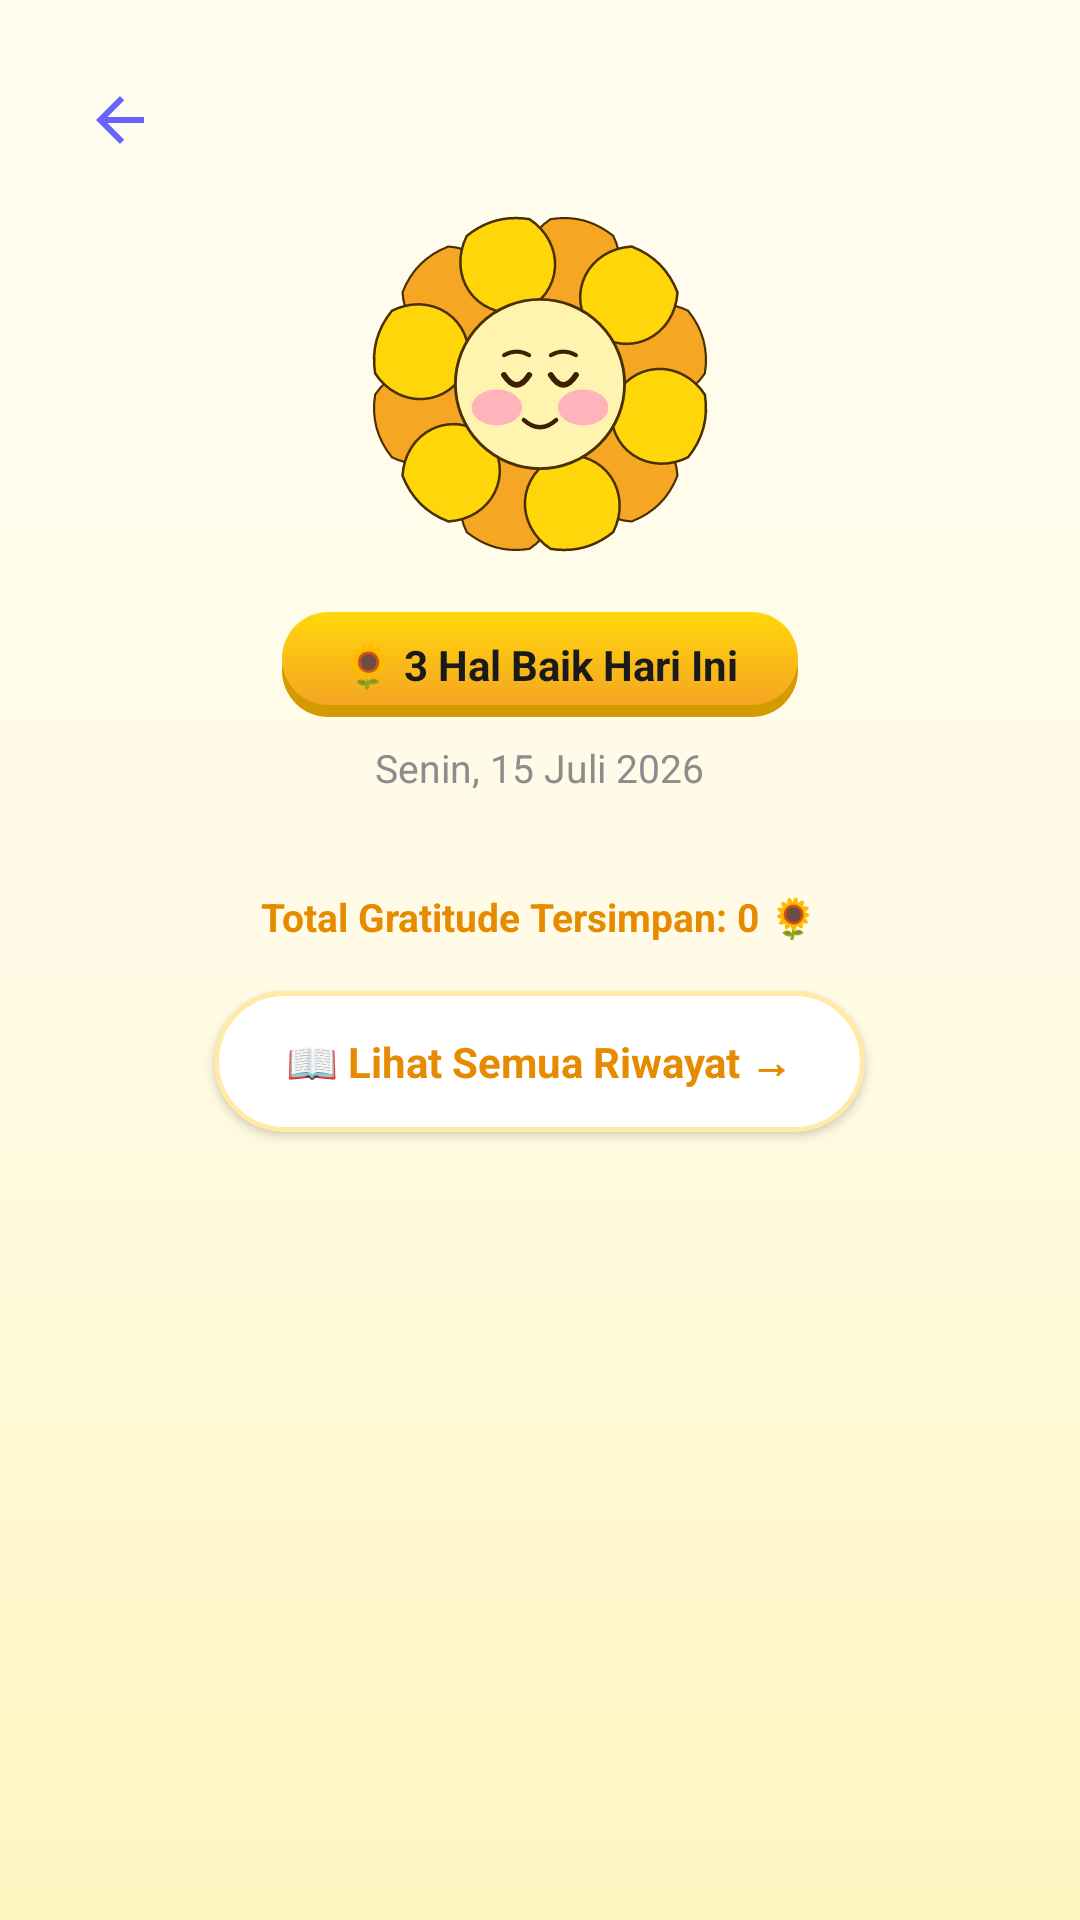

Locate icon controls on the screen. Image size 1080*1920, boxes as (x1, y1, x2, y2).
Kembali: (96, 96, 144, 144)
Mascot Serene: (372, 216, 708, 552)
